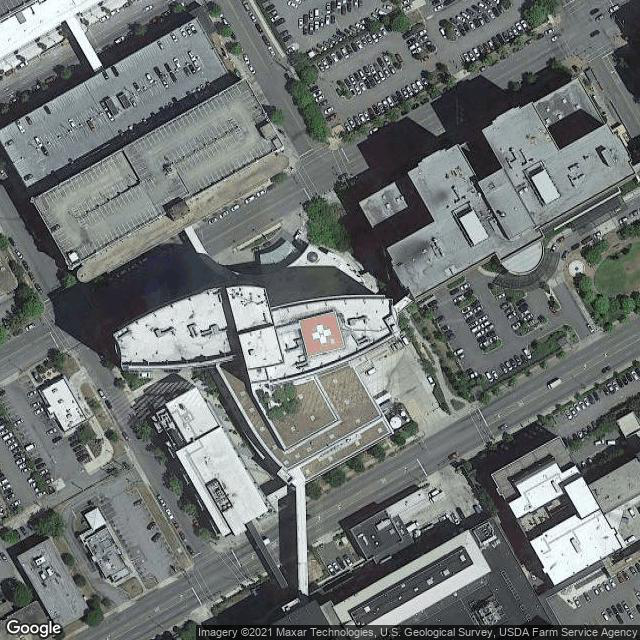Helipad: (300, 309, 345, 354)
